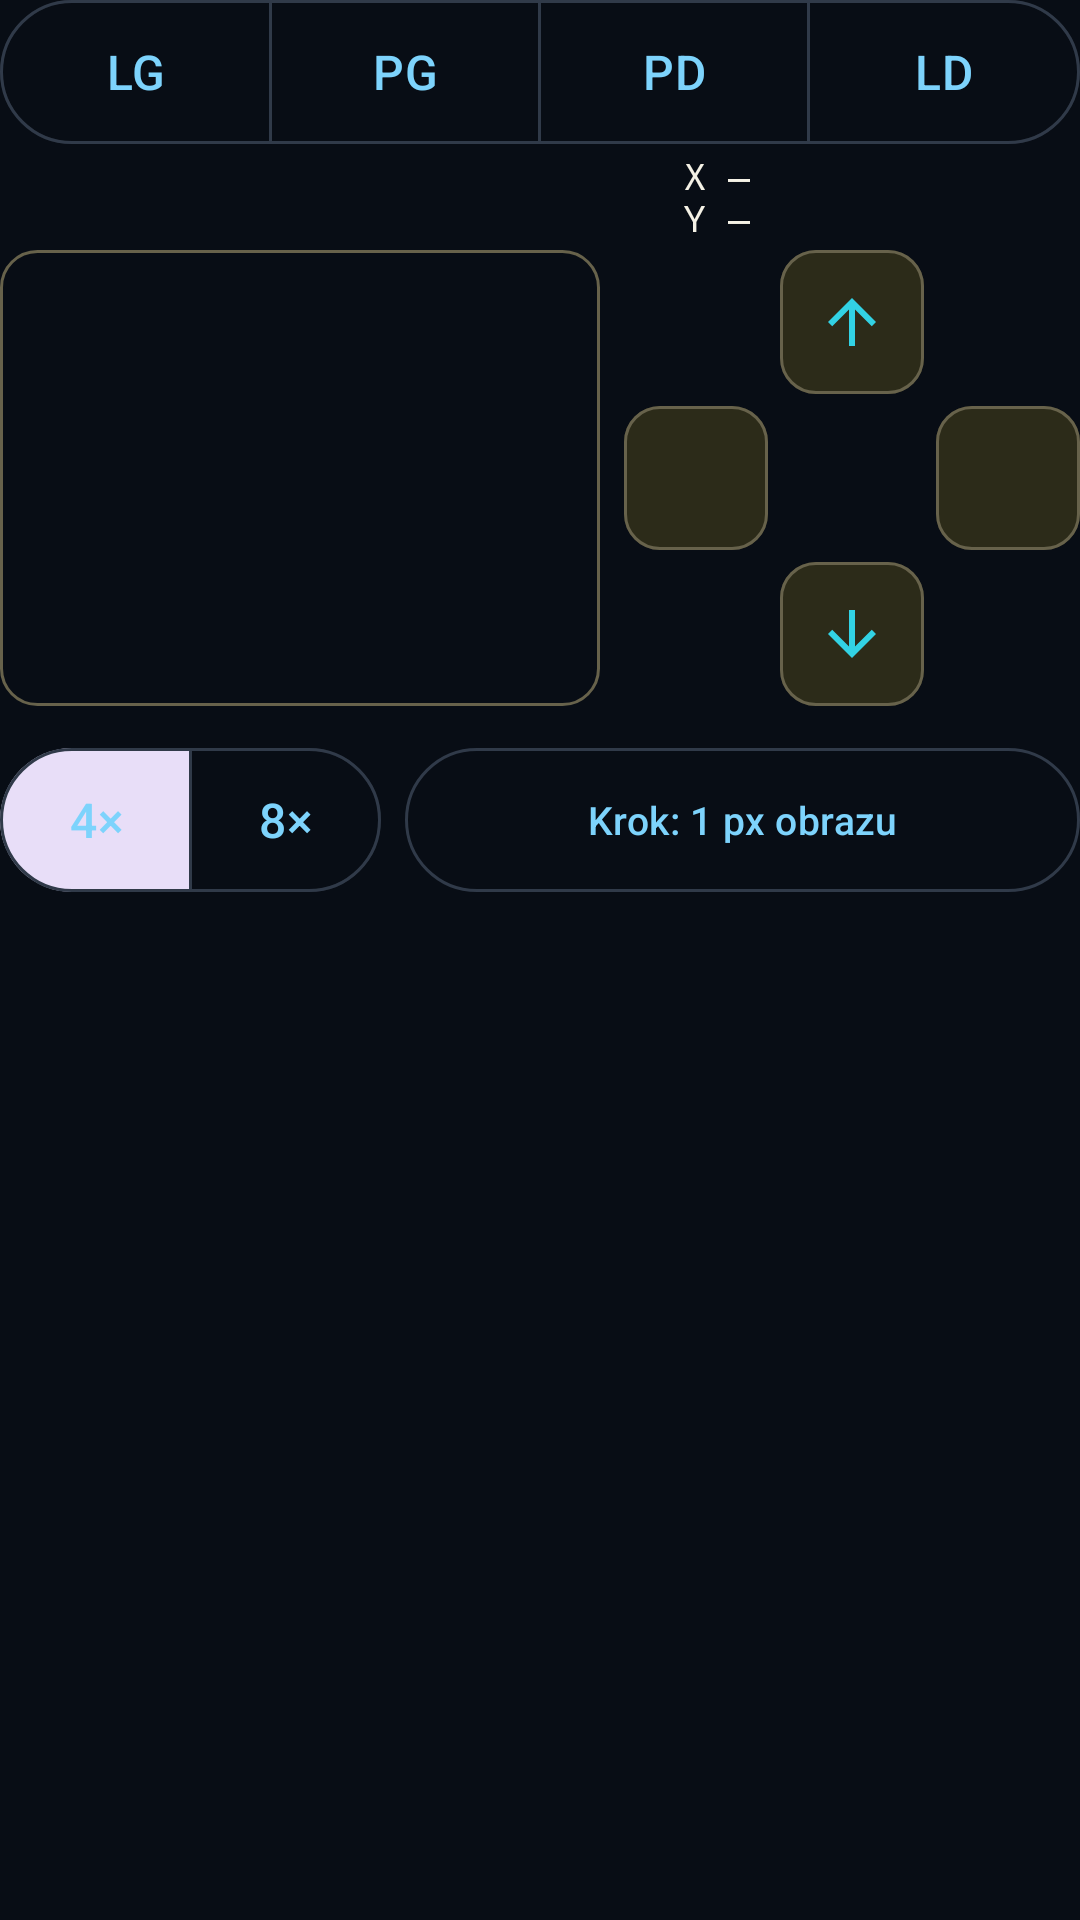

Locate icon controls on the screen. Image size 1080×1920, boxes as (x1, y1, x2, y2).
Przesuń wybrany róg w dół o 1 piksel: (780, 562, 924, 706)
Przesuń wybrany róg w górę o 1 piksel: (780, 250, 924, 394)
